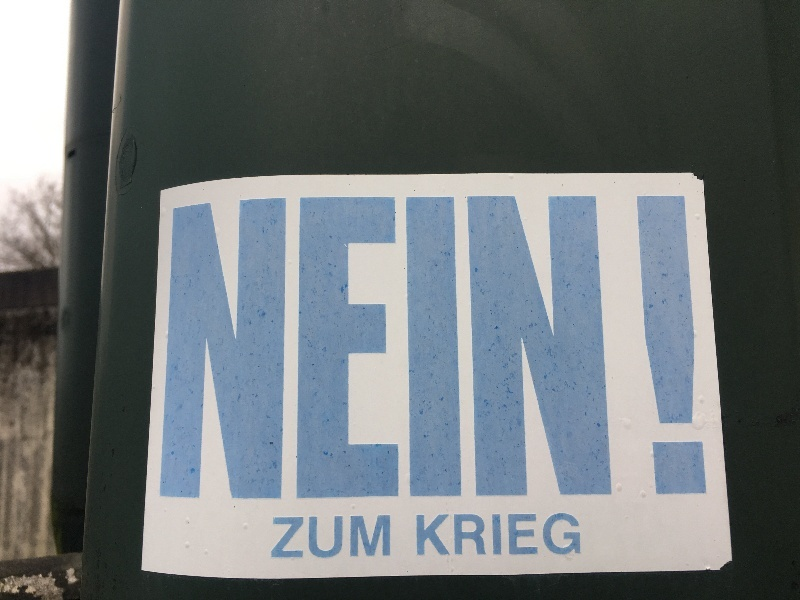text: (177, 191, 192, 499), (193, 191, 208, 499), (209, 191, 224, 499), (225, 191, 240, 499), (241, 191, 256, 499), (257, 191, 272, 499), (273, 191, 288, 499), (289, 191, 304, 499), (305, 191, 320, 499), (321, 191, 336, 499), (337, 191, 352, 499), (353, 191, 368, 499), (369, 191, 384, 499), (385, 191, 400, 499), (401, 191, 416, 499), (417, 191, 432, 499), (433, 191, 448, 499), (449, 191, 464, 499), (465, 191, 480, 499), (481, 191, 496, 499), (497, 191, 512, 499), (513, 191, 528, 499), (529, 191, 544, 499), (545, 191, 560, 499), (561, 191, 576, 499), (577, 191, 592, 499), (593, 191, 608, 499), (641, 194, 656, 496), (657, 194, 672, 496), (673, 194, 688, 496), (689, 194, 704, 496), (609, 191, 613, 499), (705, 194, 709, 496), (417, 513, 432, 557), (433, 513, 448, 557), (449, 513, 464, 557), (465, 513, 480, 557), (481, 513, 496, 557), (497, 513, 512, 557), (513, 513, 528, 557), (529, 513, 544, 557), (545, 513, 560, 557), (561, 513, 576, 557), (273, 516, 288, 559), (289, 516, 304, 559), (305, 516, 320, 559), (321, 516, 336, 559), (337, 516, 352, 559), (353, 516, 368, 559), (369, 516, 384, 559), (174, 191, 176, 499), (638, 194, 640, 496), (385, 516, 391, 559), (577, 513, 582, 557)
